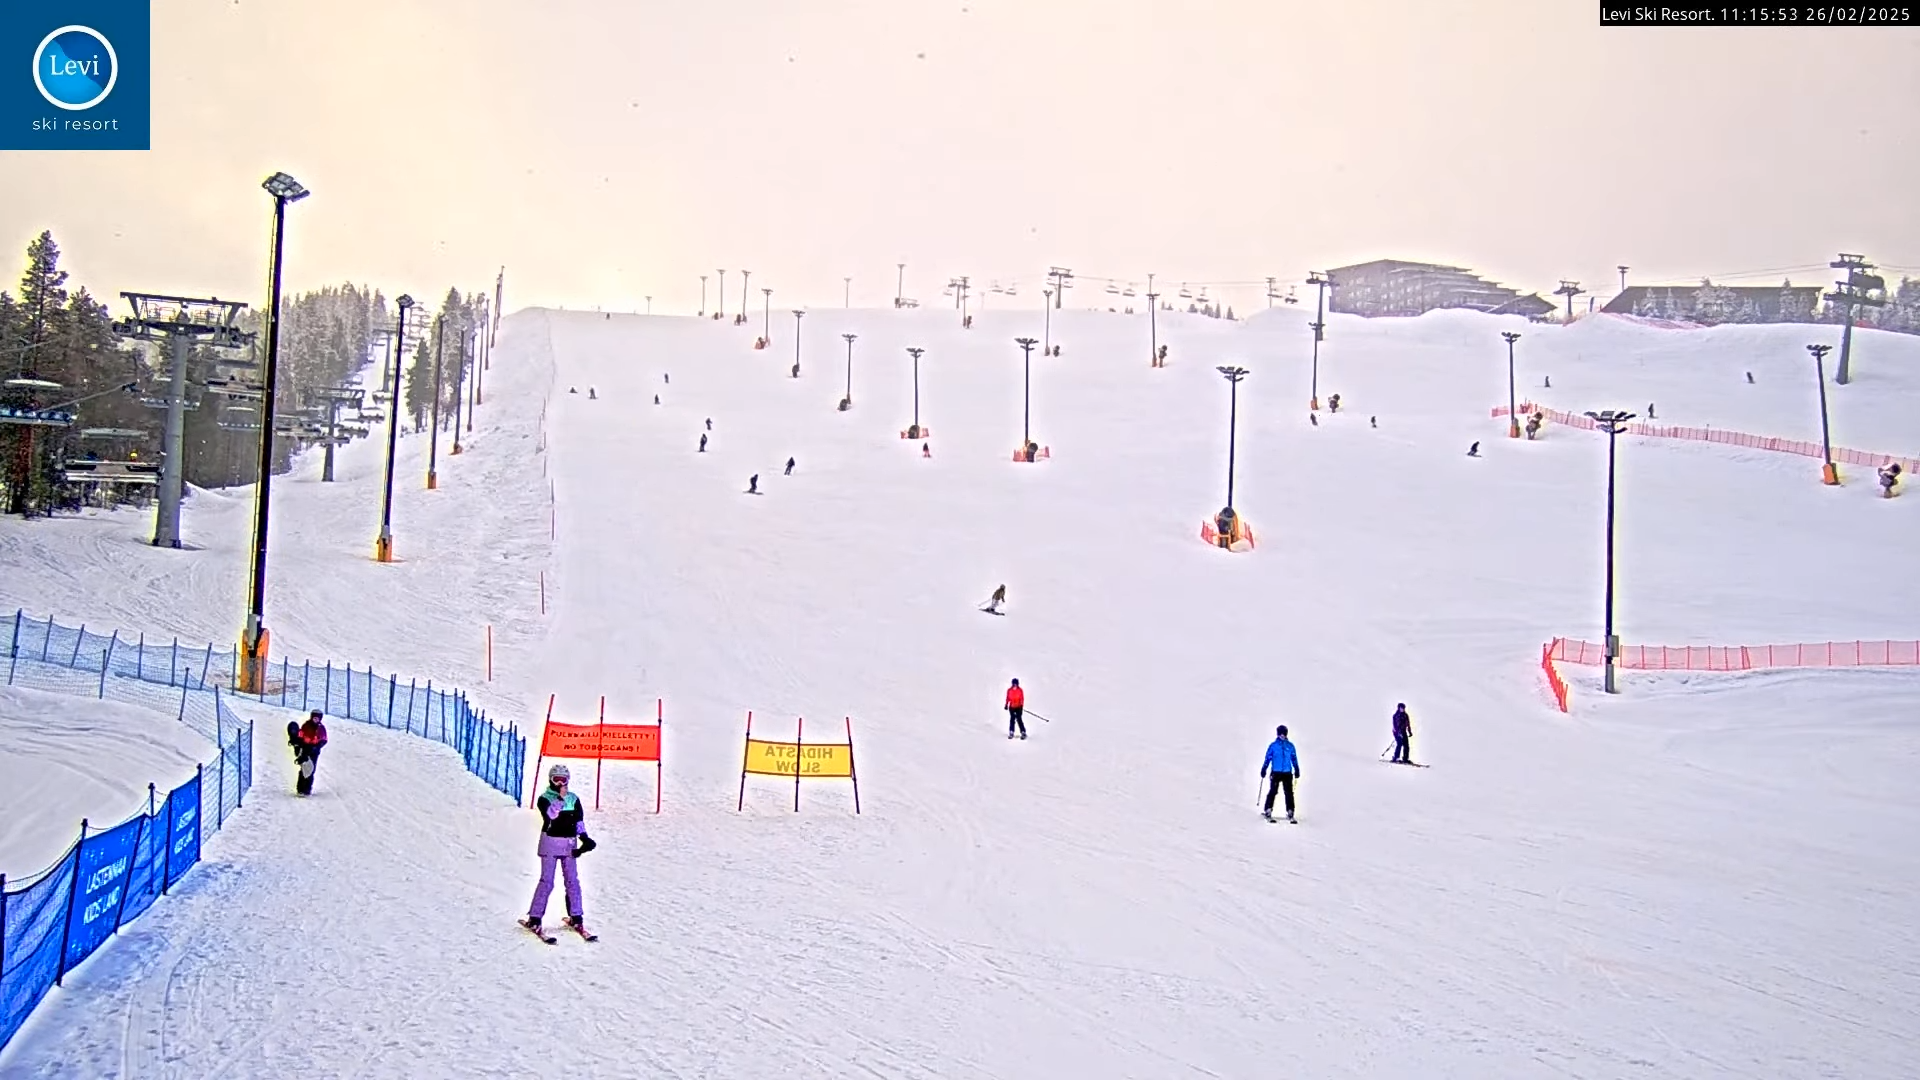skier: (518, 765, 597, 945), (1254, 723, 1303, 823), (1379, 698, 1435, 767), (997, 670, 1038, 744)
